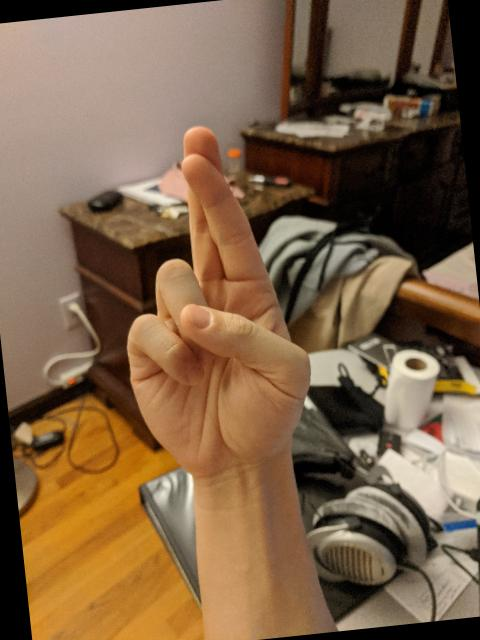R: (96, 110, 328, 488)
